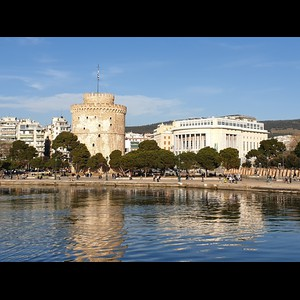White Tower: (69, 62, 127, 161)
